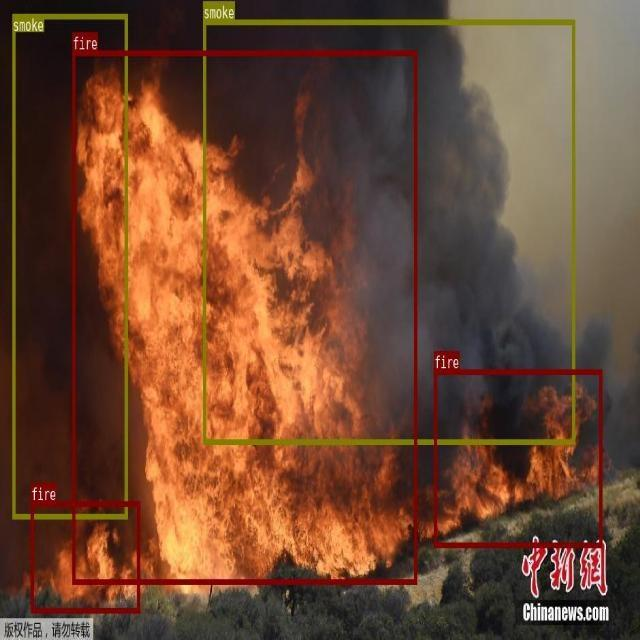fire: (72, 50, 416, 583), (434, 369, 602, 547), (31, 501, 140, 612)
smoke: (203, 19, 575, 443), (12, 14, 127, 519)
